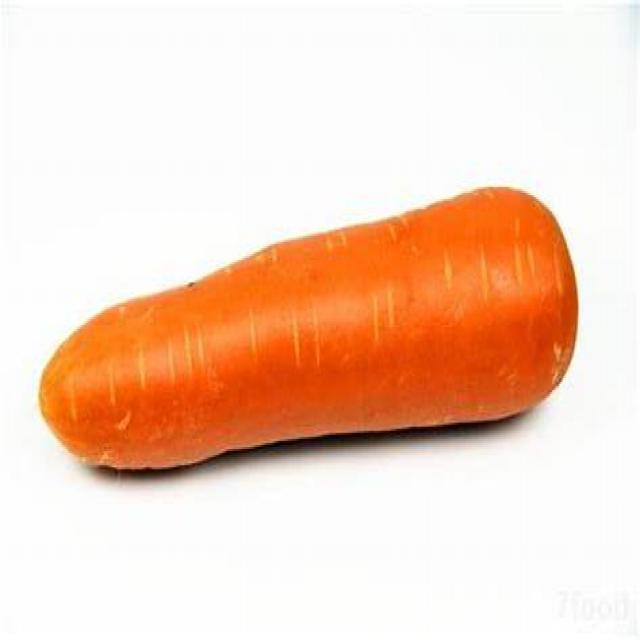Carrot: (37, 180, 581, 475)
